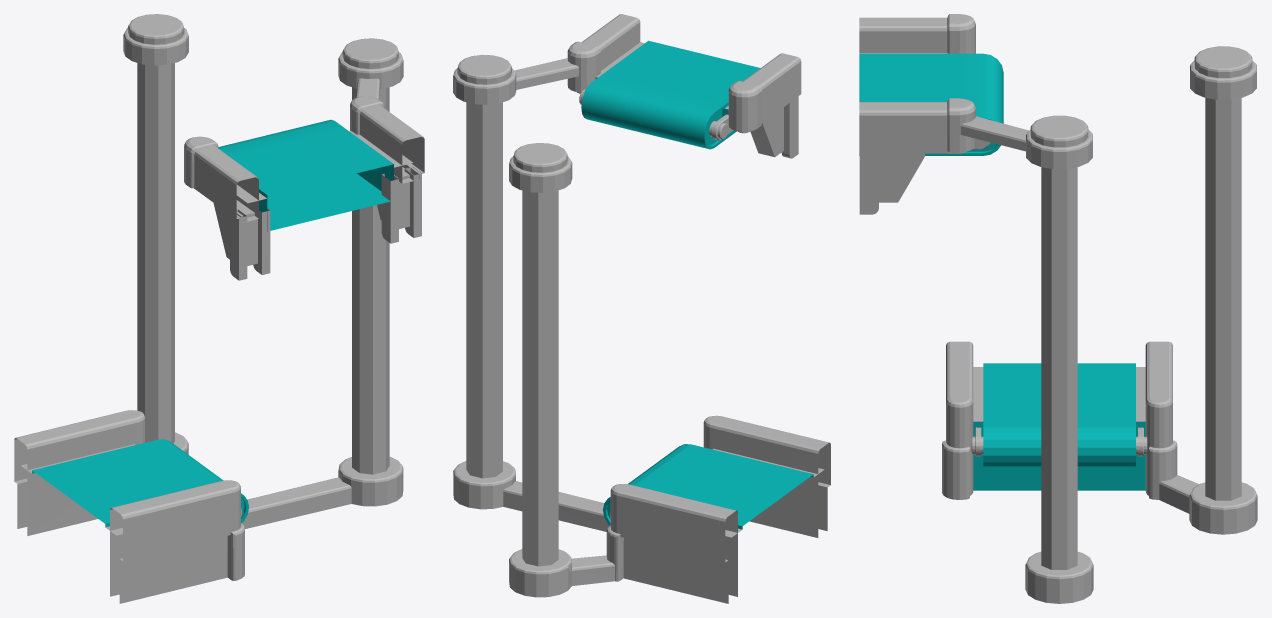
The model's file is Lift1DownLeftInternalVariant.gltf.
3 renders of one model, left to right at view 1: azimuth 30°, elevation 25°; view 2: azimuth 150°, elevation 25°; view 3: azimuth 270°, elevation 25°, orthographic. The views are drawn at different scales.
Visible parts, largest first — view 1: Lift_1DownLeft_Layer1_LOD0; view 2: Lift_1DownLeft_Layer1_LOD0; view 3: Lift_1DownLeft_Layer1_LOD0.
Part boxes in pixels (x1,y1,x2,y2): Lift_1DownLeft_Layer1_LOD0: [14, 14, 424, 603]; Lift_1DownLeft_Layer1_LOD0: [453, 14, 830, 603]; Lift_1DownLeft_Layer1_LOD0: [859, 14, 1257, 603].
Size of the model in its own units: 0.9967 by 1.28 by 0.9967.
